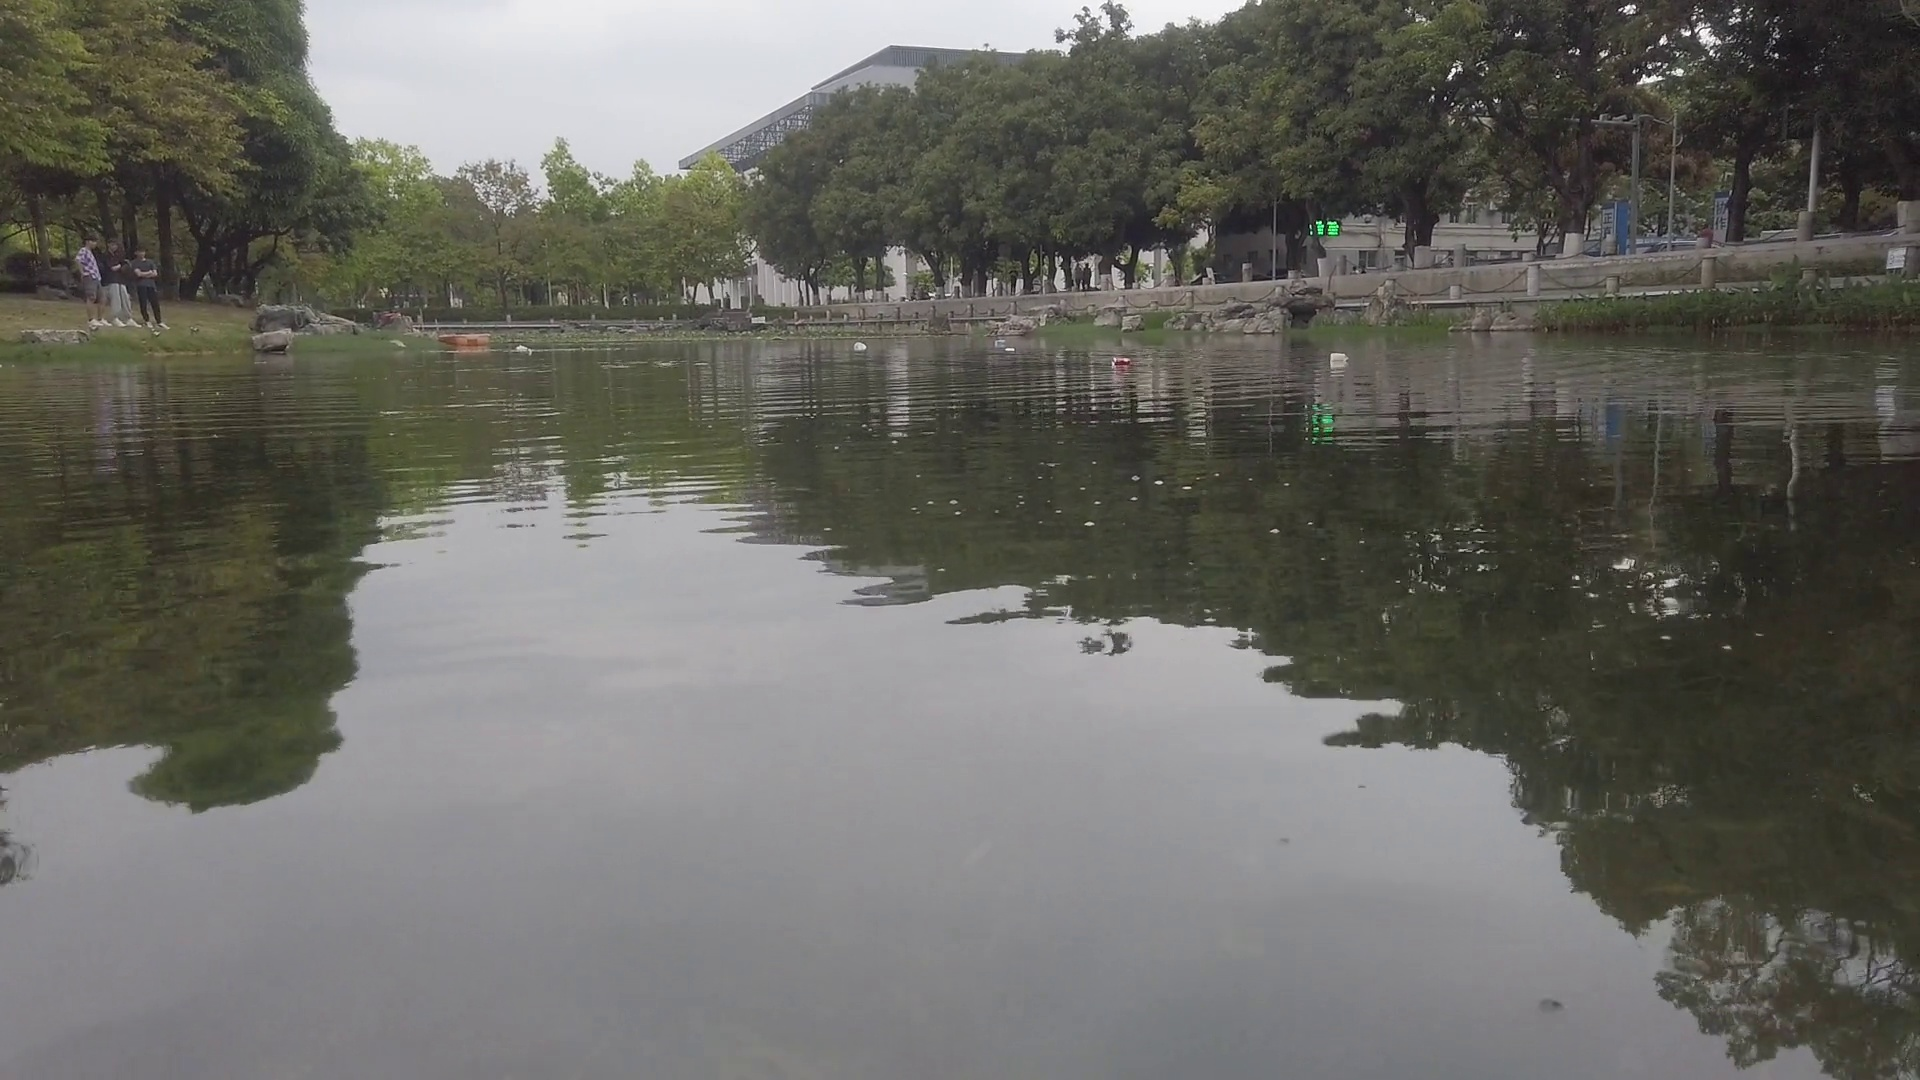bottle: (1112, 357, 1130, 364)
carton: (1332, 352, 1352, 363), (996, 340, 1005, 345)
paper: (1004, 347, 1017, 351)
plastic: (852, 342, 868, 352), (517, 345, 527, 352)
